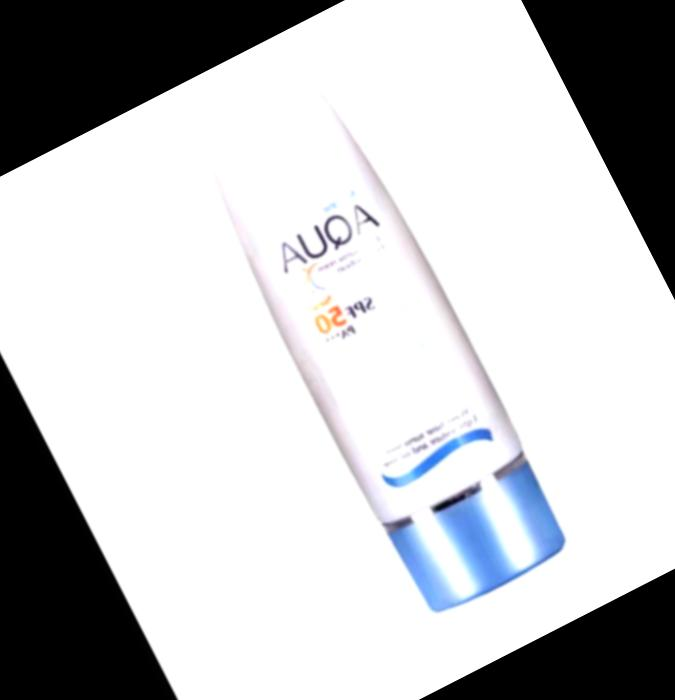cosmetic: (180, 75, 575, 624)
